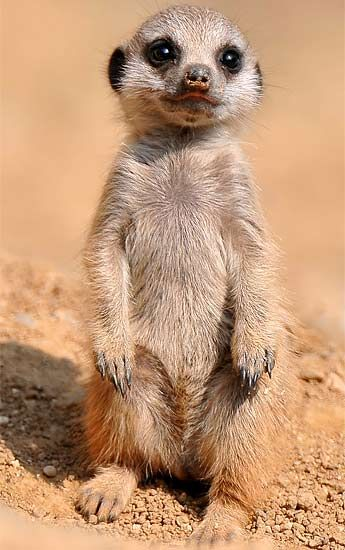meerkat: (81, 3, 297, 550)
